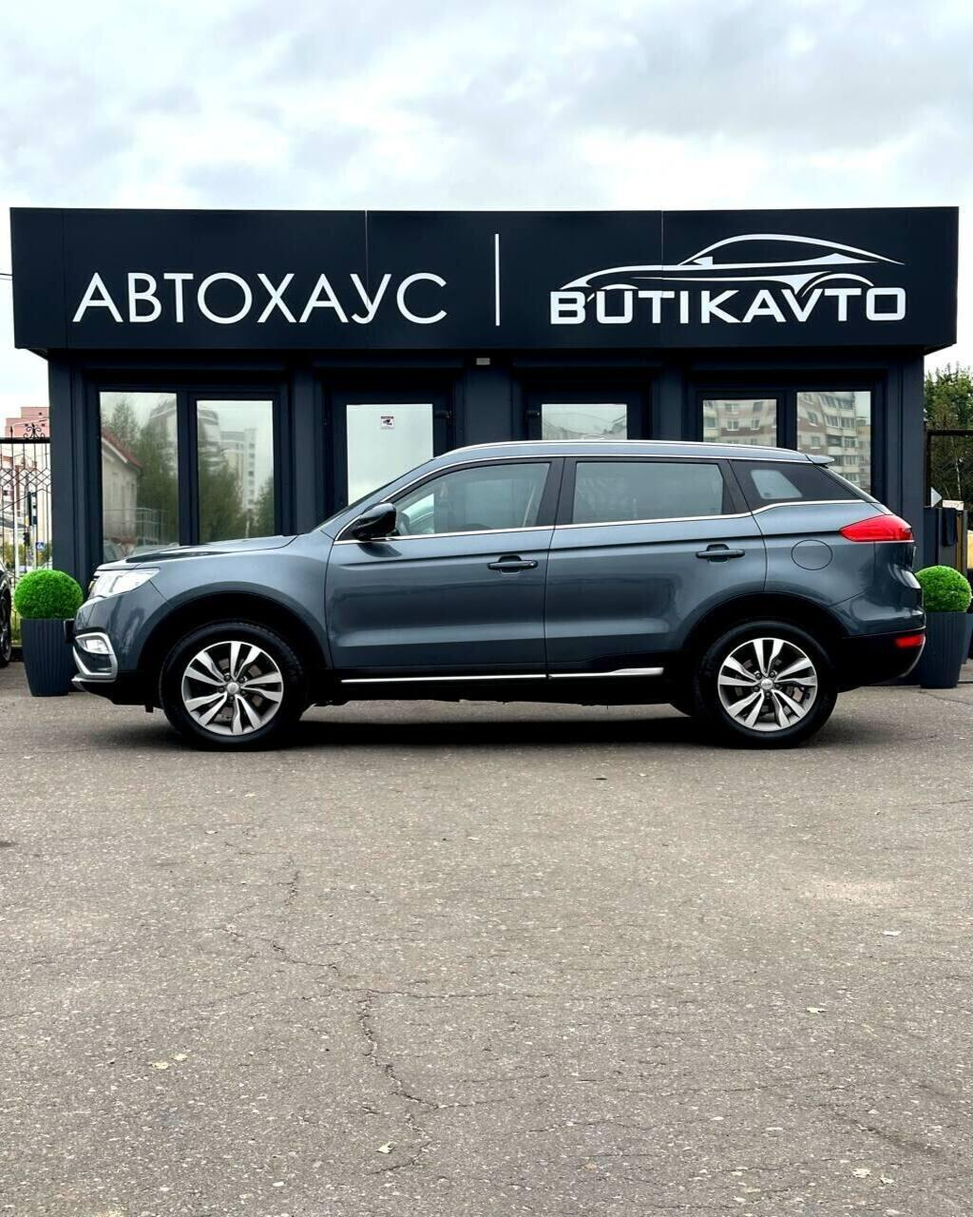Atlas_2016-2023: (62, 433, 931, 742)
